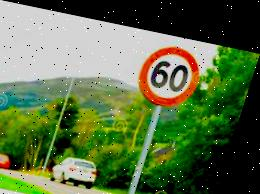Speed Limit -60-: (133, 33, 209, 102)
